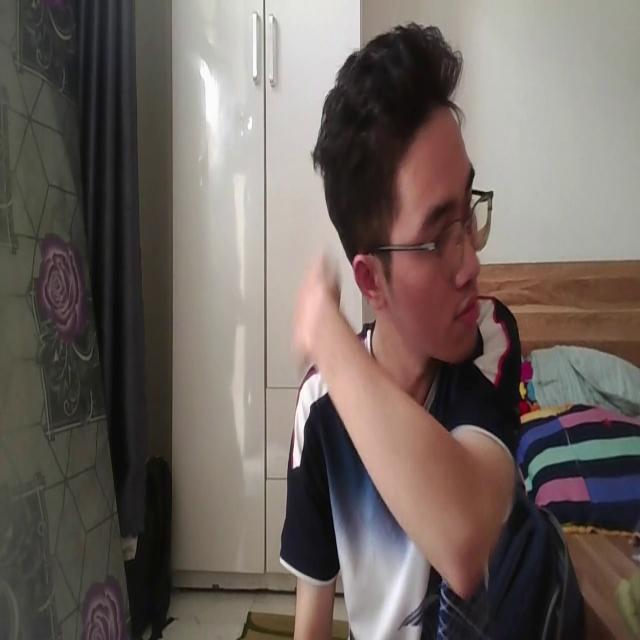student: (280, 17, 528, 640)
